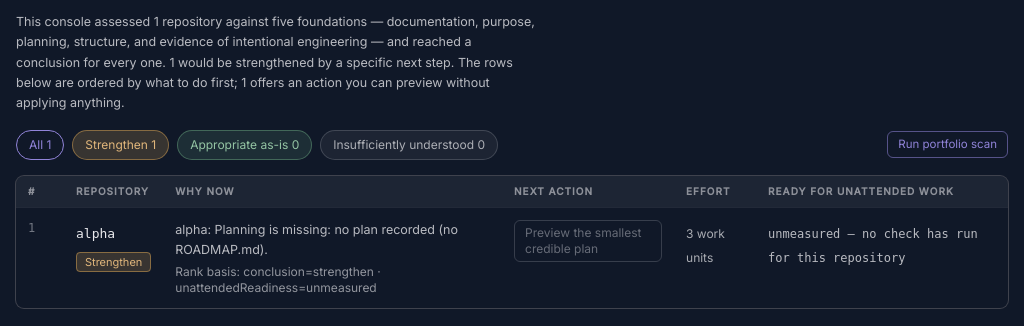
Scenario: TodayView — the toolbar offers the portfolio scan › shows the failure and offers the button again when the start is refused
Click the button "Run portfolio scan".
click(948, 145)  # box [887,131,1008,158]
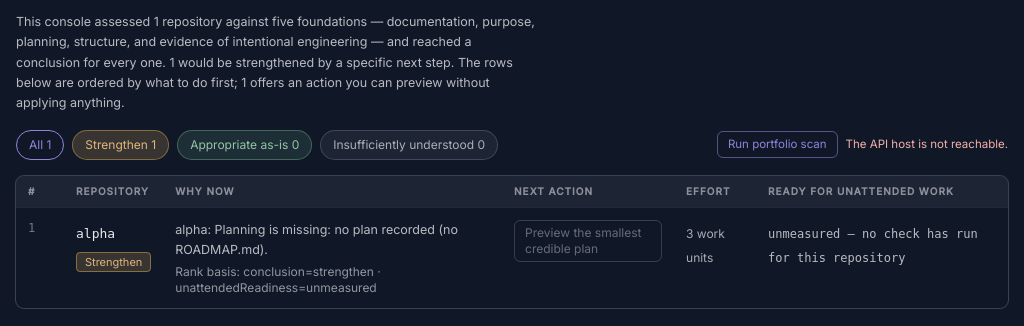
expect the button "Run portfolio scan" is enabled: met, box [717,131,838,158]
expect the text with test id "today-scan-note" reads "The API host is not reachable.": met, box [846,137,1008,151]
